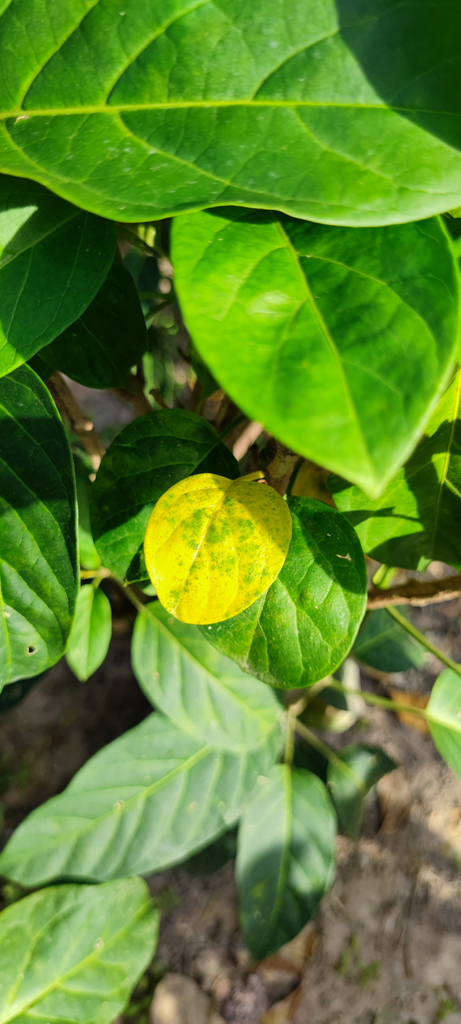Pepper yellow leaf: (140, 468, 286, 621)
